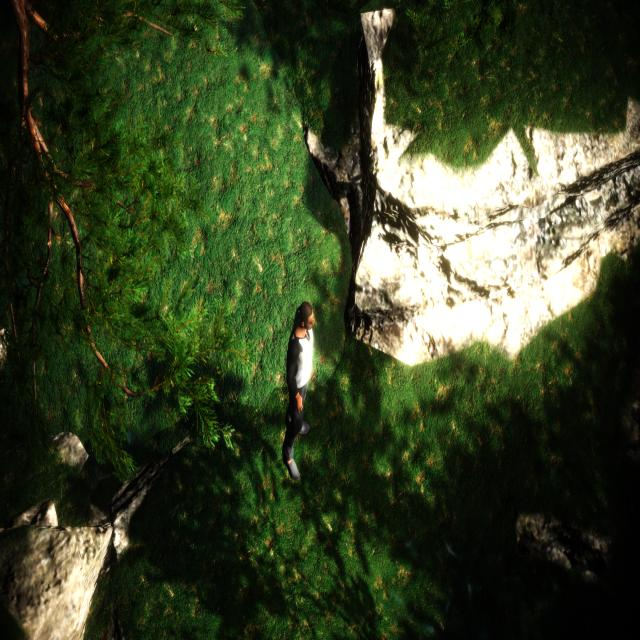Human: (280, 295, 316, 490)
